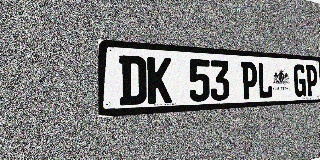3: (210, 60, 229, 101)
5: (189, 59, 210, 102)
D: (119, 55, 146, 106)
G: (294, 64, 306, 97)
K: (147, 57, 172, 104)
L: (258, 62, 273, 99)
P: (241, 61, 258, 100), (306, 65, 317, 96)
